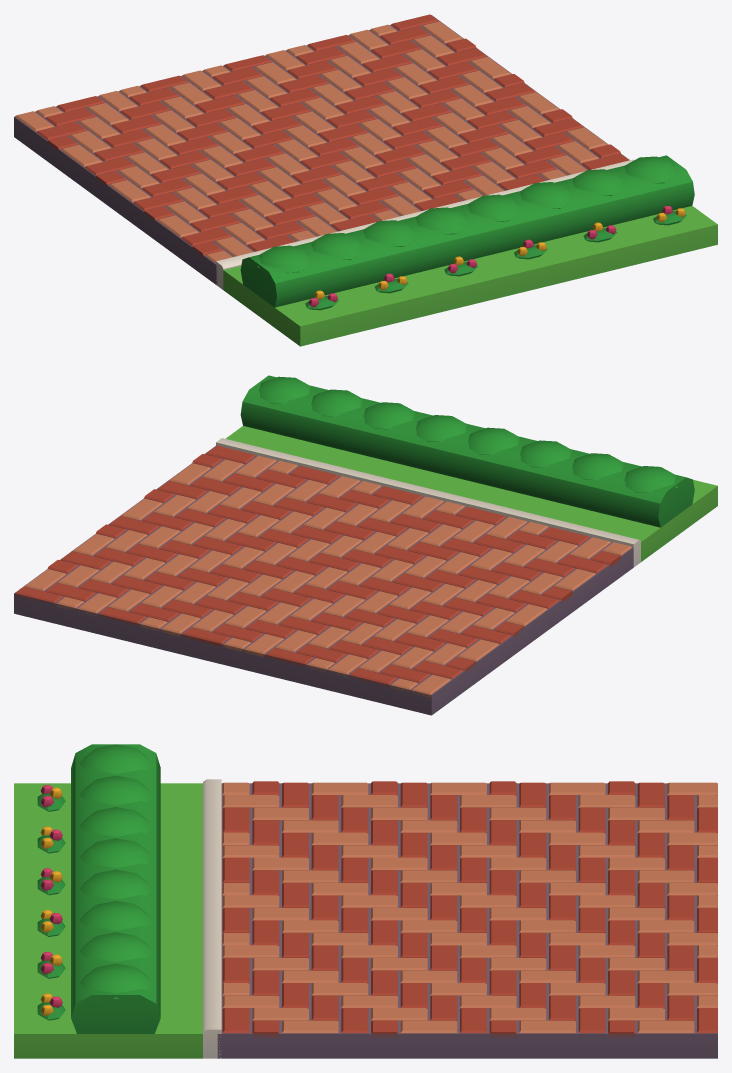
Rendered from plaza_tile.glb.
3 views of the same model, one above another, from view 1: azimuth 30°, elevation 25°; view 2: azimuth 150°, elevation 25°; view 3: azimuth 270°, elevation 25° (orthographic). The views are drawn at different scales.
Visible parts, largest first — view 1: plaza_tile; view 2: plaza_tile; view 3: plaza_tile.
Boxes of the visible parts, box(x1,y1,x2,y2) form: plaza_tile: box(14, 14, 717, 346); plaza_tile: box(14, 375, 717, 715); plaza_tile: box(14, 744, 717, 1058).
Bounding box in the file's own units: 8.04 × 1.06 × 9.5.
